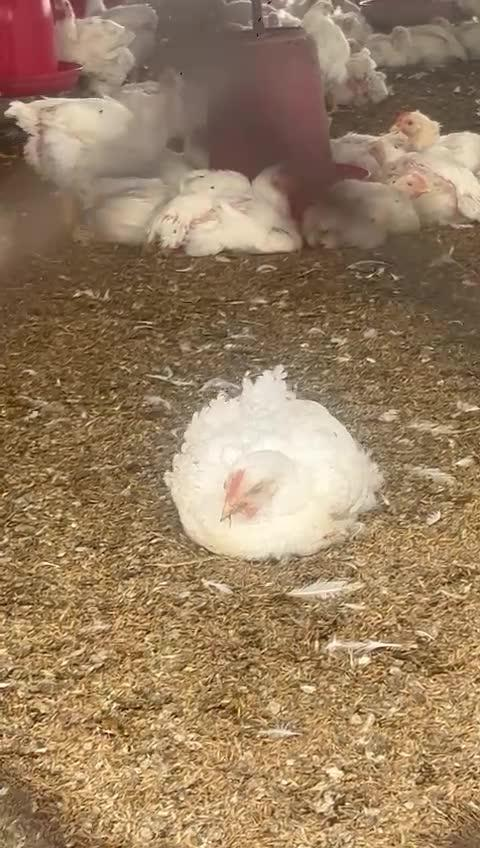AbNormal: (177, 372, 375, 552), (158, 160, 300, 256), (369, 135, 480, 223), (307, 174, 425, 255), (70, 172, 172, 245), (377, 24, 465, 69), (331, 52, 390, 103), (439, 251, 449, 277)
Normal: (9, 77, 190, 243), (55, 0, 132, 89), (306, 2, 352, 93), (84, 0, 157, 55)
